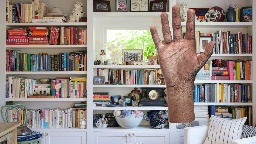Mano_aperta: (147, 3, 215, 84)
